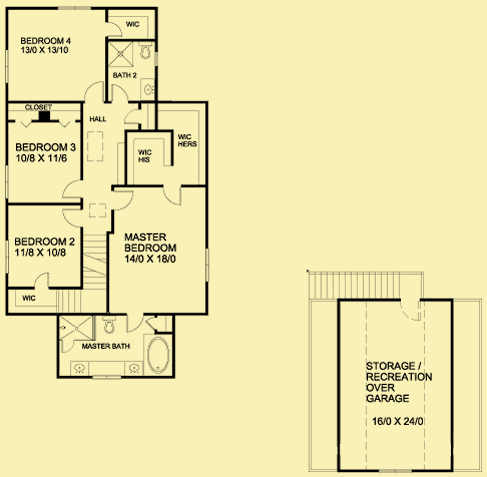door: (107, 185, 135, 212), (157, 181, 183, 209), (58, 177, 85, 202), (81, 78, 105, 105), (60, 205, 84, 229), (122, 311, 146, 335), (109, 80, 131, 106), (31, 269, 52, 292), (121, 107, 142, 129), (102, 19, 127, 37), (56, 337, 78, 355), (143, 314, 159, 331)
large sink: (134, 38, 154, 63), (97, 316, 120, 335)
small sink: (69, 360, 145, 378), (139, 77, 156, 101)
stairs: (52, 233, 114, 317), (302, 267, 426, 302)
tub: (143, 334, 174, 379)
windows: (53, 3, 94, 15), (1, 237, 13, 278), (1, 46, 12, 88), (374, 465, 412, 477), (1, 162, 12, 200), (202, 244, 212, 285)
